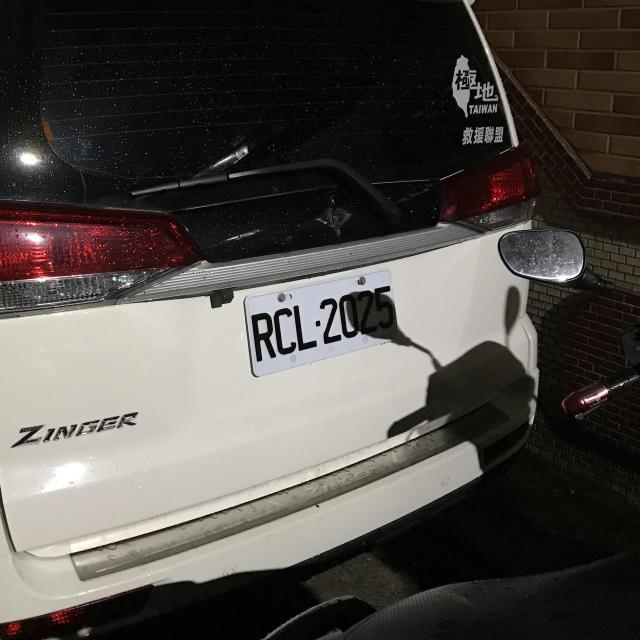W: (235, 263, 404, 378)
